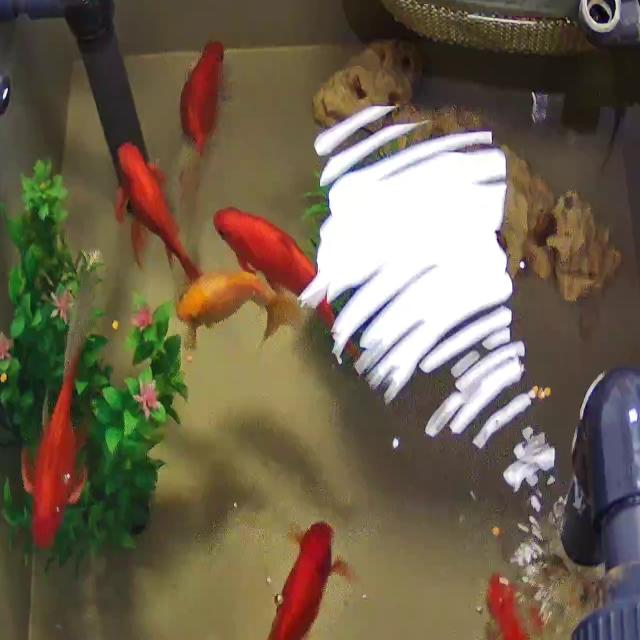fish: (212, 522, 388, 640), (24, 287, 96, 570), (211, 204, 358, 305), (114, 142, 198, 284), (164, 270, 301, 352), (173, 42, 224, 210), (485, 572, 544, 640)
